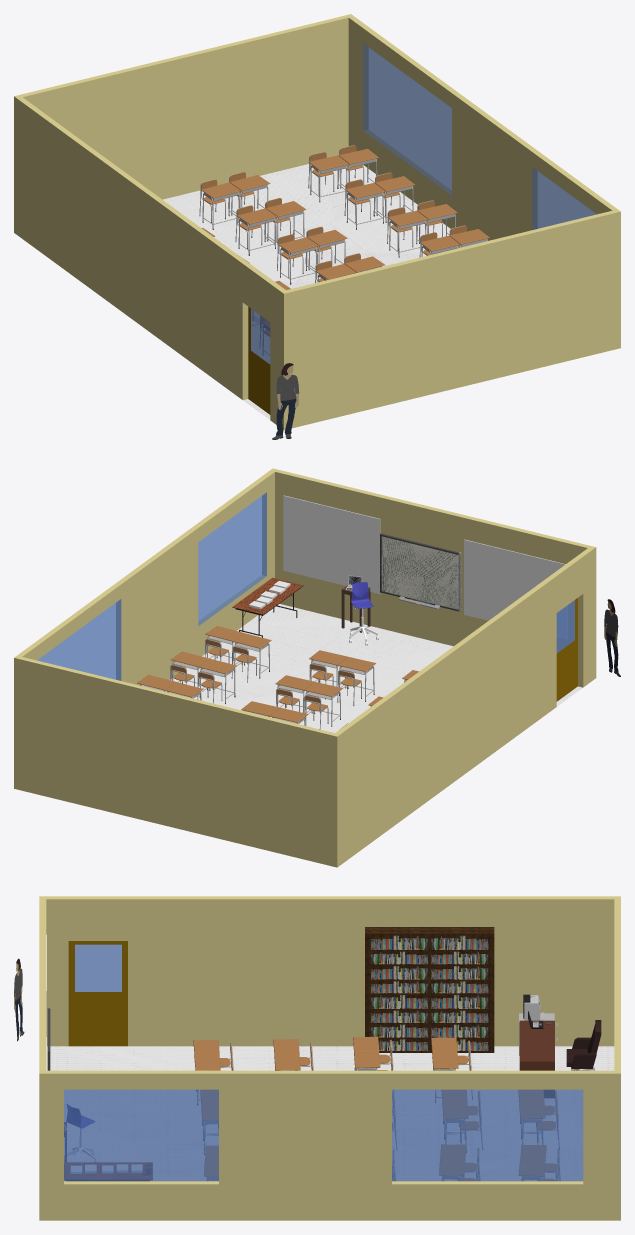
The picture shows the model from 3 angles, top to bottom: view 1: azimuth 30°, elevation 25°; view 2: azimuth 150°, elevation 25°; view 3: azimuth 270°, elevation 25°; orthographic projection. The views are drawn at different scales.
Parts seen in each view (by area): view 1: SketchUp (×7); view 2: SketchUp (×9), group_36, Folding_table_72_x_30; view 3: SketchUp (×8), Component_148 (×15), Component_149, half_1 (×2), Folding_table_72_x_30, Leather_office_chair.
Part boxes in pixels (x1,y1,x2,y2): SketchUp (×7): (14,14,620,430); SketchUp (×9): (14,468,596,867); group_36: (382,536,458,609); Folding_table_72_x_30: (233,577,302,614); SketchUp (×8): (39,896,620,1220); Component_148 (×15): (371,935,488,1050); Component_149: (365,927,494,1052); half_1 (×2): (519,1020,554,1097); Folding_table_72_x_30: (64,1162,152,1179); Leather_office_chair: (566,1020,601,1068).
Size of the model in its own units: 327 by 449 by 120.
